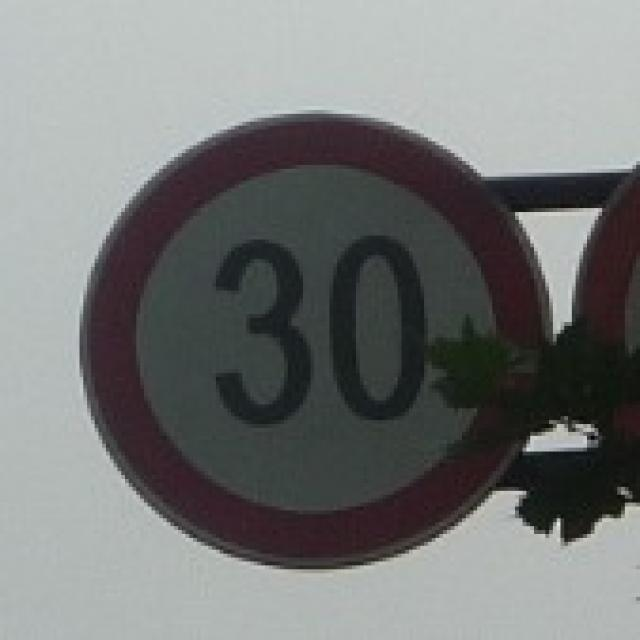Speed Limit -30-: (210, 232, 430, 431)
